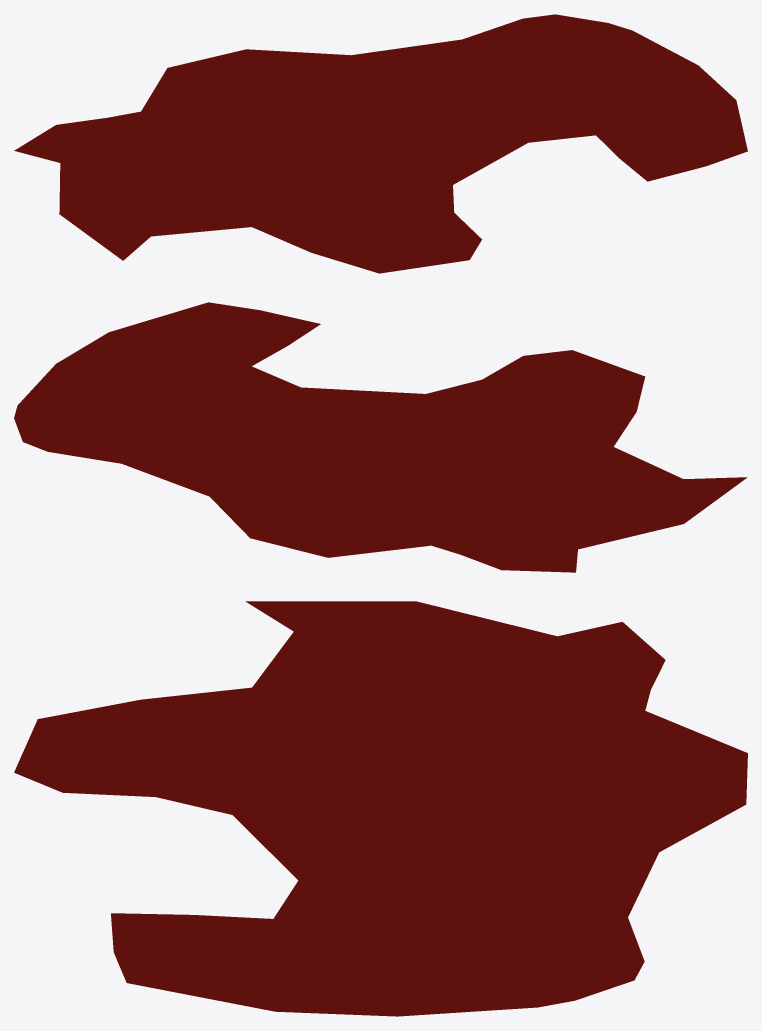
The model's file is blood.fbx.
The picture shows the model from 3 angles, top to bottom: view 1: azimuth 30°, elevation 25°; view 2: azimuth 150°, elevation 25°; view 3: azimuth 270°, elevation 25°; orthographic projection. The views are drawn at different scales.
Visible parts, largest first — view 1: Plane; view 2: Plane; view 3: Plane.
Boxes of the visible parts, left/top/right/bottom form: Plane: left=14, top=14, right=747, bottom=273; Plane: left=14, top=302, right=747, bottom=572; Plane: left=14, top=601, right=747, bottom=1016.
Size of the model in its own units: 178 by 2.16e-05 by 133.
